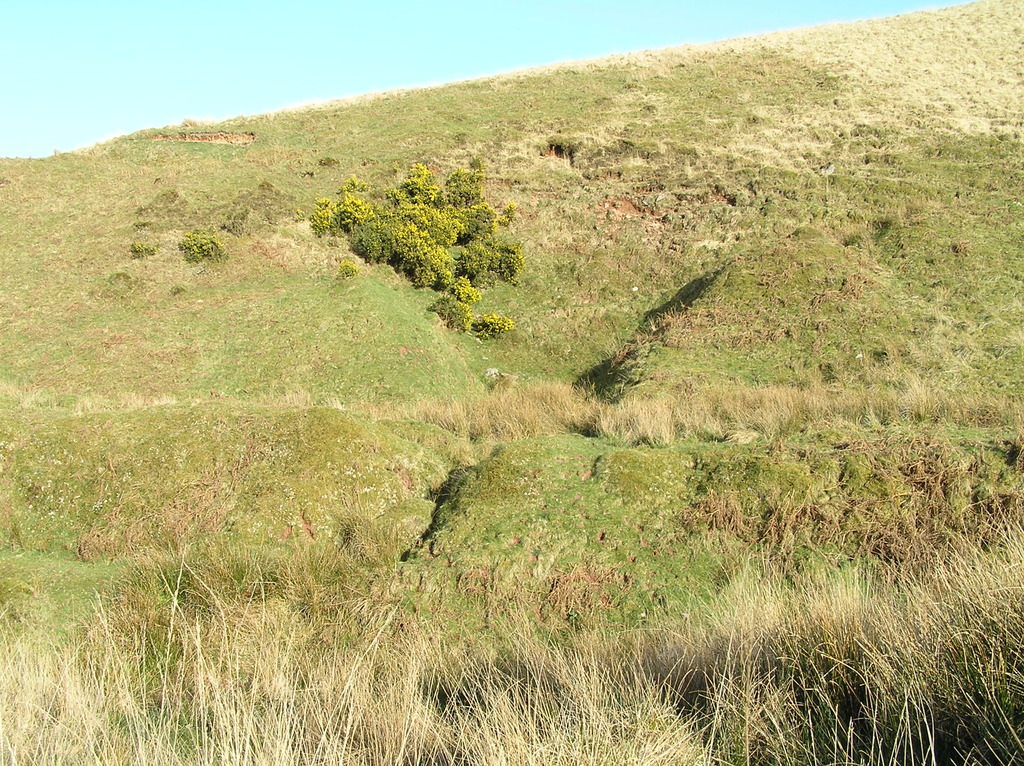Tree: (296, 156, 526, 343)
